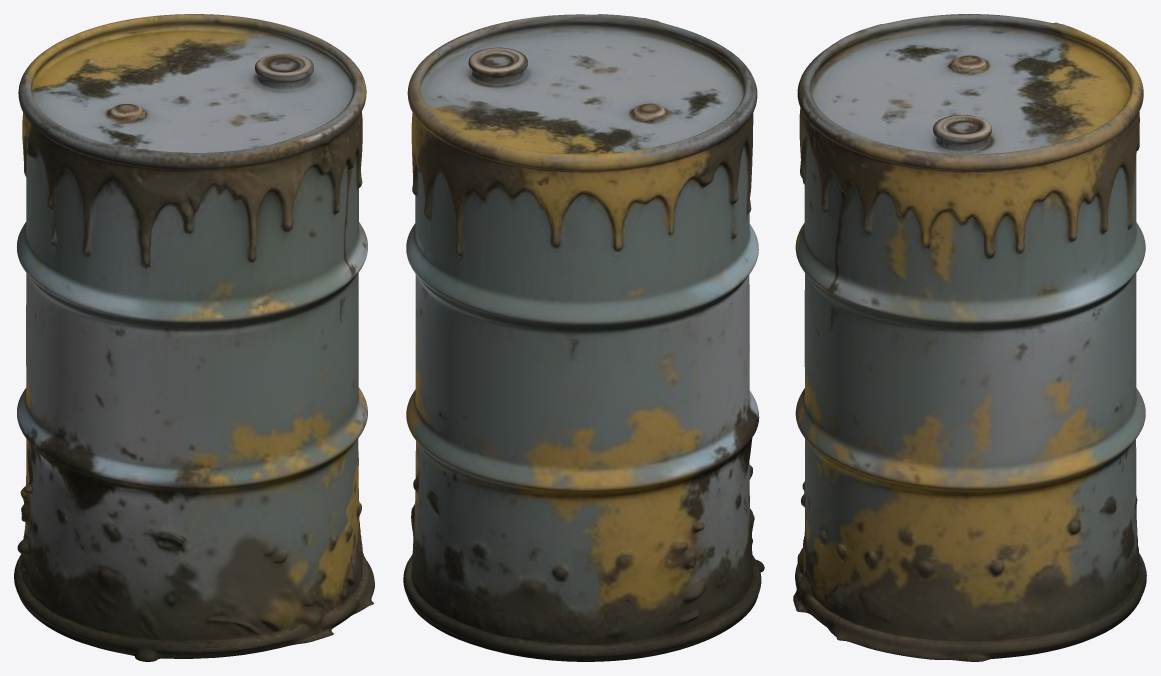
Rendered from prop_barrel_c.glb.
3 views of the same model, side by side, from view 1: azimuth 30°, elevation 25°; view 2: azimuth 150°, elevation 25°; view 3: azimuth 270°, elevation 25° (orthographic).
Visible parts, largest first — view 1: node_0; view 2: node_0; view 3: node_0.
Part boxes in pixels (x1,y1,x2,y2): node_0: (14,14,374,661); node_0: (403,14,764,661); node_0: (793,14,1146,661).
Size of the model in its own units: 0.6498 by 0.9982 by 0.6349.
1 material, 1 textured.
